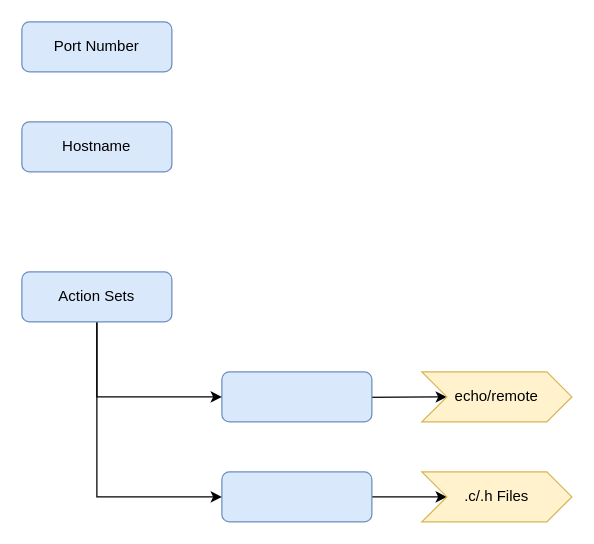
Image size: 594x544. Some labels were removed from this diagram. The centre of each missing label's shape, as x and y in pixels:
"Actions" belongs at (x=296, y=396).
"Required Programs" belongs at (x=296, y=496).
